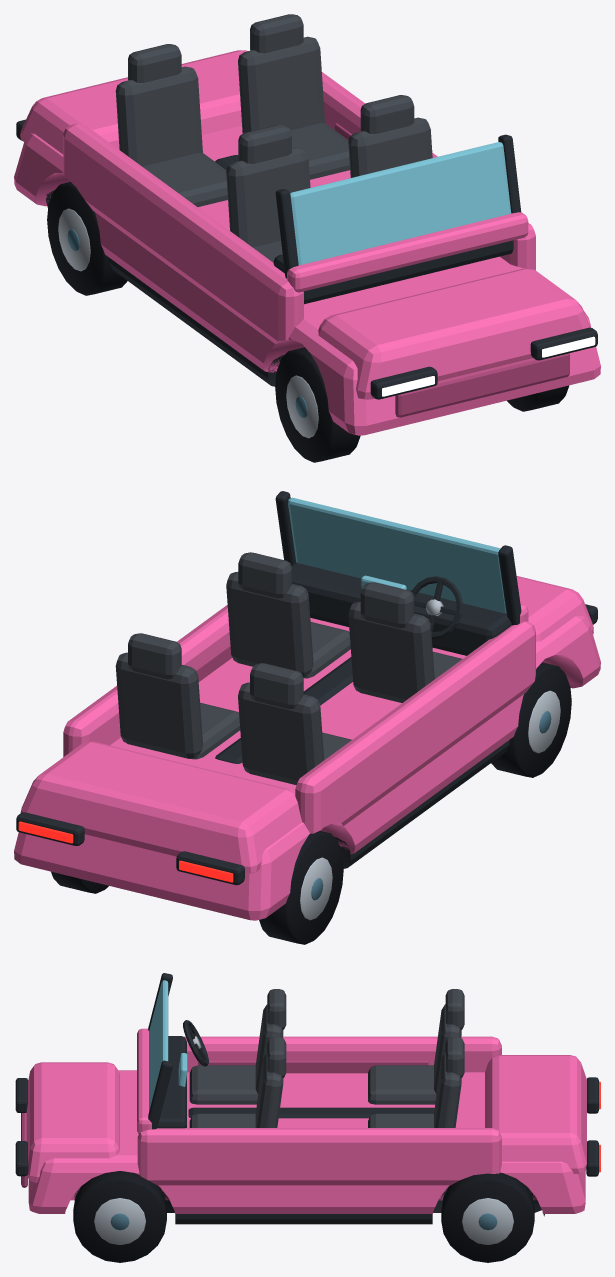
Rendered from EVPink.glb.
3 renders of one model, top to bottom at view 1: azimuth 30°, elevation 25°; view 2: azimuth 150°, elevation 25°; view 3: azimuth 270°, elevation 25°, orthographic. The views are drawn at different scales.
Visible parts, largest first — view 1: FTF_Vehicle_ConvertibleEV_Pink_4Seat_Static, FTF_Vehicle_ConvertibleEV_Pink_4Seat_Wheel_FL_Mesh, FTF_Vehicle_ConvertibleEV_Pink_4Seat_Wheel_RL_Mesh, FTF_Vehicle_ConvertibleEV_Pink_4Seat_HeadlampHousing_Right, FTF_Vehicle_ConvertibleEV_Pink_4Seat_HeadlampHousing_Left, FTF_Vehicle_ConvertibleEV_Pink_4Seat_Wheel_FR_Mesh; view 2: FTF_Vehicle_ConvertibleEV_Pink_4Seat_Static, FTF_Vehicle_ConvertibleEV_Pink_4Seat_Wheel_RL_Mesh, FTF_Vehicle_ConvertibleEV_Pink_4Seat_Wheel_FL_Mesh, FTF_Vehicle_ConvertibleEV_Pink_4Seat_SteeringWheel_Mesh, FTF_Vehicle_ConvertibleEV_Pink_4Seat_RearLampHousing_Right, FTF_Vehicle_ConvertibleEV_Pink_4Seat_RearLampHousing_Left, FTF_Vehicle_ConvertibleEV_Pink_4Seat_Wheel_RR_Mesh; view 3: FTF_Vehicle_ConvertibleEV_Pink_4Seat_Static, FTF_Vehicle_ConvertibleEV_Pink_4Seat_Wheel_FR_Mesh, FTF_Vehicle_ConvertibleEV_Pink_4Seat_Wheel_RR_Mesh, FTF_Vehicle_ConvertibleEV_Pink_4Seat_SteeringWheel_Mesh, FTF_Vehicle_ConvertibleEV_Pink_4Seat_HeadlampHousing_Right, FTF_Vehicle_ConvertibleEV_Pink_4Seat_RearLampHousing_Right, FTF_Vehicle_ConvertibleEV_Pink_4Seat_HeadlampHousing_Left, FTF_Vehicle_ConvertibleEV_Pink_4Seat_RearLampHousing_Left.
Boxes of the visible parts, bbox=[...] form: FTF_Vehicle_ConvertibleEV_Pink_4Seat_Static: bbox=[14, 14, 600, 435]; FTF_Vehicle_ConvertibleEV_Pink_4Seat_Wheel_FL_Mesh: bbox=[275, 347, 360, 462]; FTF_Vehicle_ConvertibleEV_Pink_4Seat_Wheel_RL_Mesh: bbox=[47, 182, 127, 295]; FTF_Vehicle_ConvertibleEV_Pink_4Seat_HeadlampHousing_Right: bbox=[530, 327, 597, 360]; FTF_Vehicle_ConvertibleEV_Pink_4Seat_HeadlampHousing_Left: bbox=[370, 366, 437, 399]; FTF_Vehicle_ConvertibleEV_Pink_4Seat_Wheel_FR_Mesh: bbox=[507, 385, 569, 411]; FTF_Vehicle_ConvertibleEV_Pink_4Seat_Static: bbox=[14, 491, 600, 920]; FTF_Vehicle_ConvertibleEV_Pink_4Seat_Wheel_RL_Mesh: bbox=[259, 831, 343, 944]; FTF_Vehicle_ConvertibleEV_Pink_4Seat_Wheel_FL_Mesh: bbox=[491, 662, 571, 777]; FTF_Vehicle_ConvertibleEV_Pink_4Seat_SteeringWheel_Mesh: bbox=[411, 576, 462, 639]; FTF_Vehicle_ConvertibleEV_Pink_4Seat_RearLampHousing_Right: bbox=[16, 812, 84, 845]; FTF_Vehicle_ConvertibleEV_Pink_4Seat_RearLampHousing_Left: bbox=[176, 851, 244, 885]; FTF_Vehicle_ConvertibleEV_Pink_4Seat_Wheel_RR_Mesh: bbox=[51, 871, 108, 893]; FTF_Vehicle_ConvertibleEV_Pink_4Seat_Static: bbox=[21, 973, 586, 1224]; FTF_Vehicle_ConvertibleEV_Pink_4Seat_Wheel_FR_Mesh: bbox=[73, 1171, 166, 1262]; FTF_Vehicle_ConvertibleEV_Pink_4Seat_Wheel_RR_Mesh: bbox=[441, 1172, 534, 1262]; FTF_Vehicle_ConvertibleEV_Pink_4Seat_SteeringWheel_Mesh: bbox=[183, 1020, 208, 1066]; FTF_Vehicle_ConvertibleEV_Pink_4Seat_HeadlampHousing_Right: bbox=[15, 1141, 28, 1176]; FTF_Vehicle_ConvertibleEV_Pink_4Seat_RearLampHousing_Right: bbox=[586, 1140, 598, 1176]; FTF_Vehicle_ConvertibleEV_Pink_4Seat_HeadlampHousing_Left: bbox=[15, 1078, 28, 1112]; FTF_Vehicle_ConvertibleEV_Pink_4Seat_RearLampHousing_Left: bbox=[587, 1077, 598, 1113].
Size of the model in its own units: 1.89 by 1.73 by 4.64.
